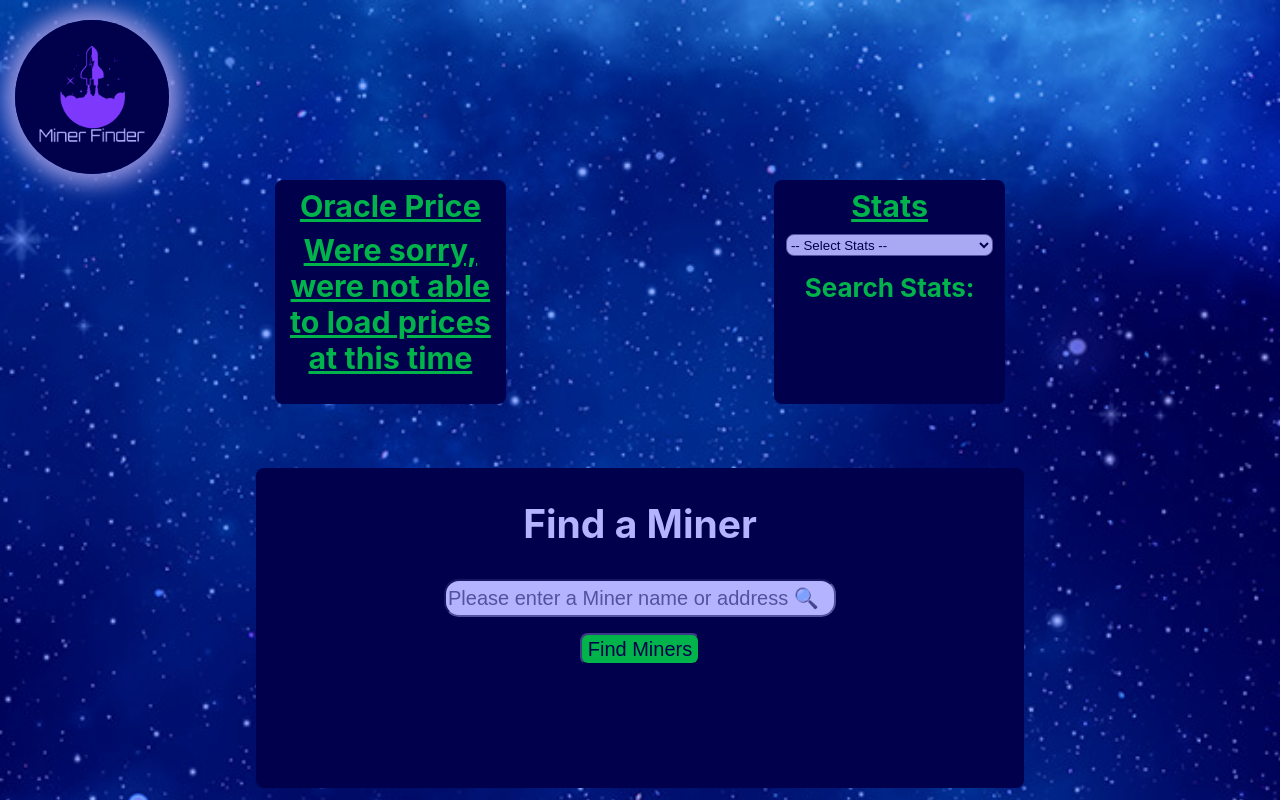
Test: Stat container › User should be able to select an option in dropdown and see the stats
Expected: the heading with class "information-container" reads "Search Stats:", [805,272,975,303]
Step 1. Select "1" in the dropdown → [890, 245], box [786,234,993,256]
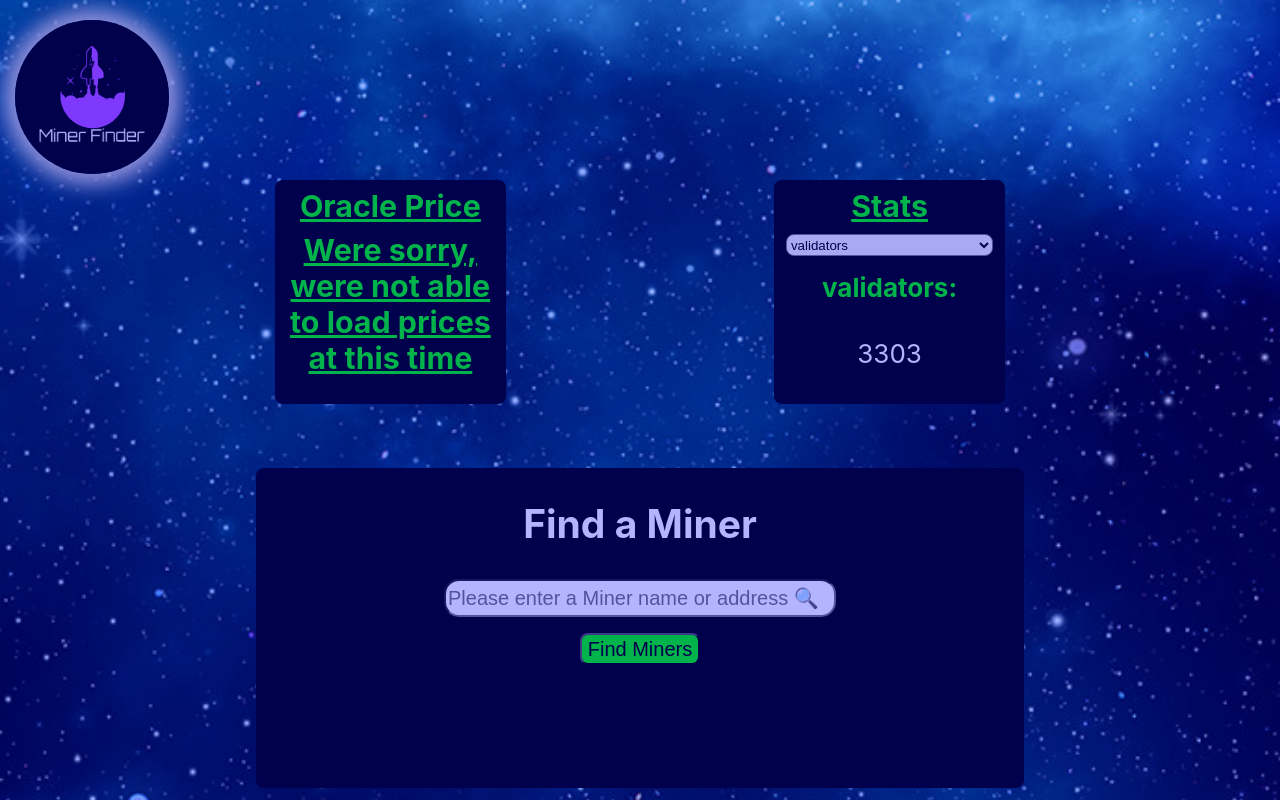
Expected: the text "3303" is shown, [857,338,922,369]
Step 2. Select "2" in the dropdown → [890, 245], box [786,234,993,256]
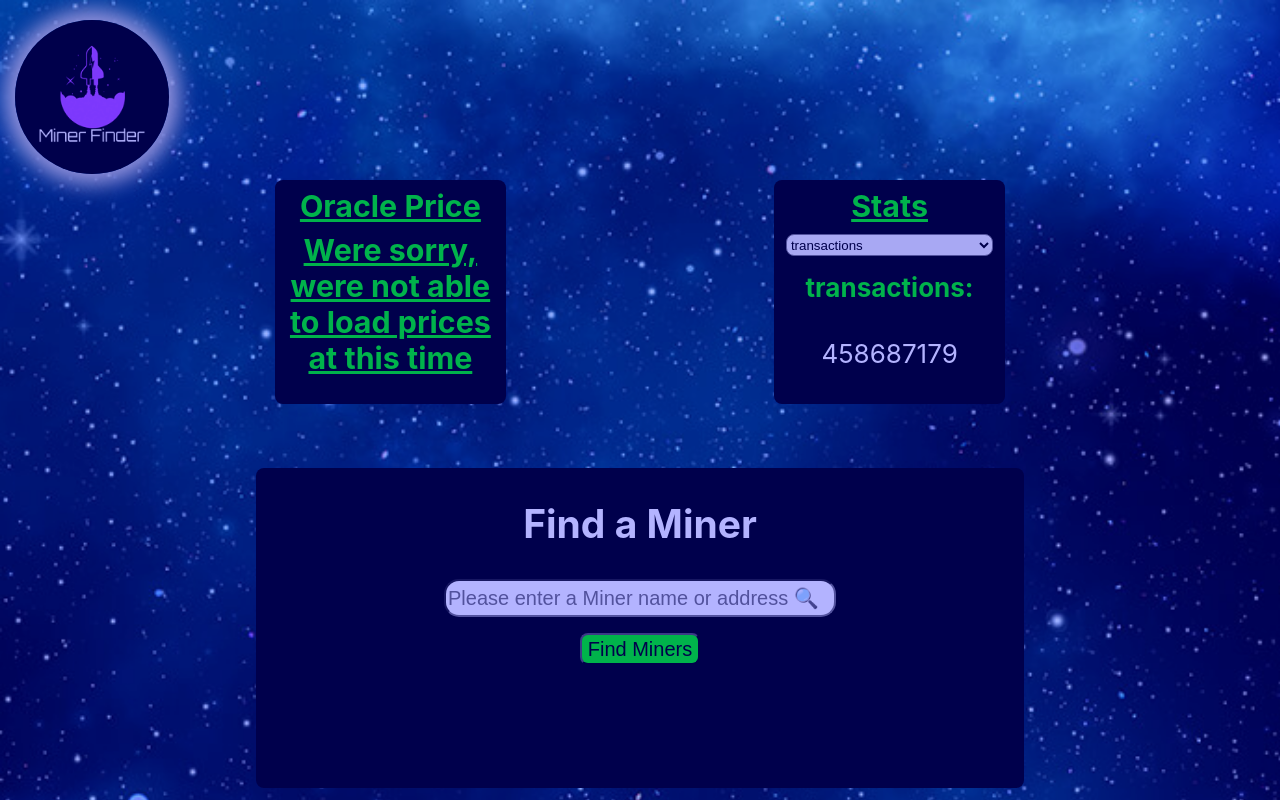
Expected: the text with class "data-to-show" reads "458687179", [821,338,957,369]
